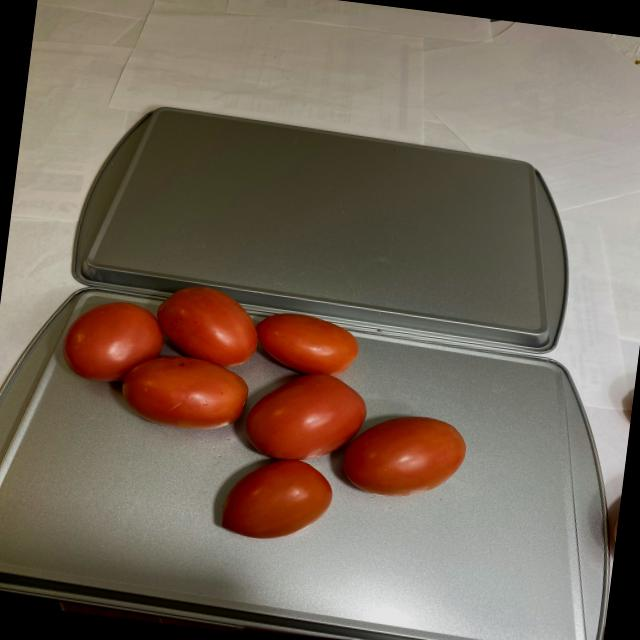tomato: (37, 269, 483, 562)
